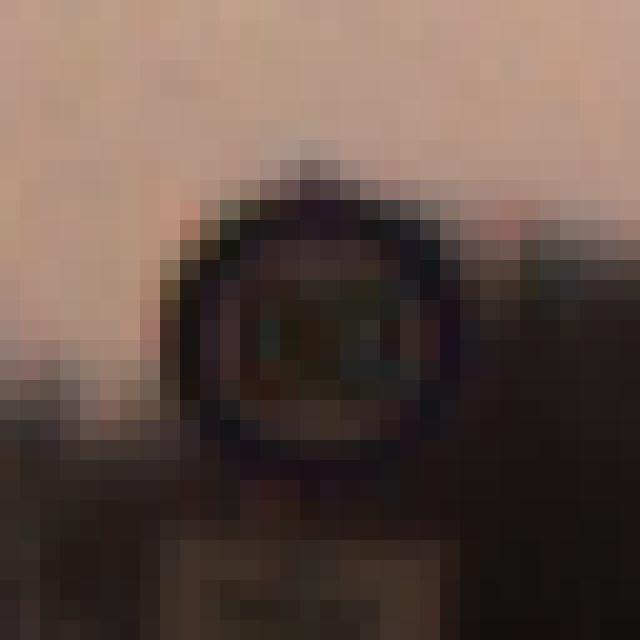SPEED-LIMIT-80: (161, 168, 469, 486)
